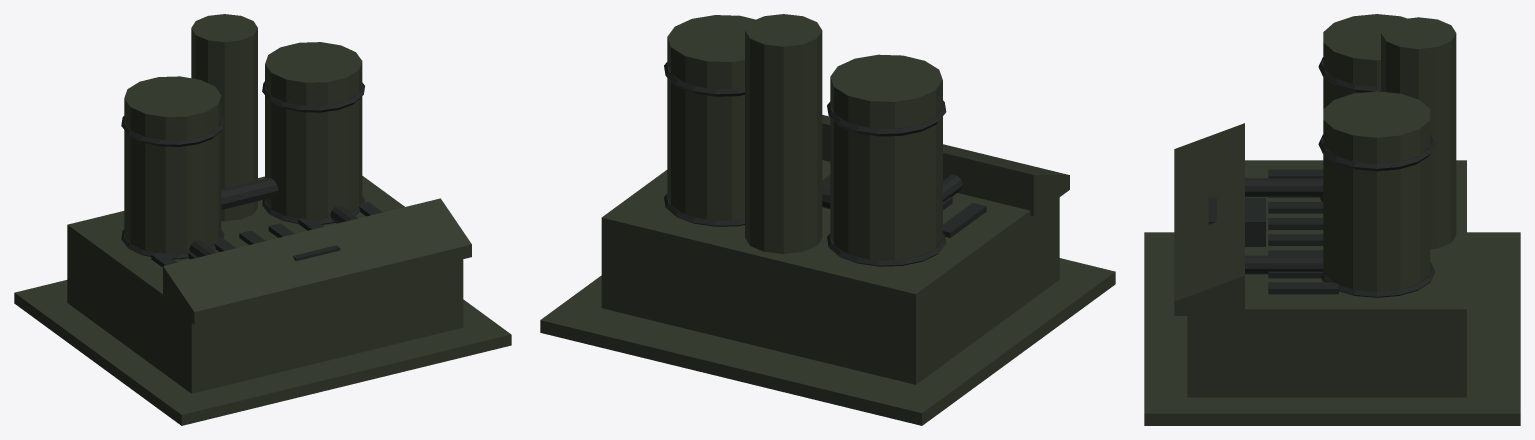
Rendered from Bastion_LargePowerPlant_Articulated.glb.
3 renders of one model, left to right at view 1: azimuth 30°, elevation 25°; view 2: azimuth 150°, elevation 25°; view 3: azimuth 270°, elevation 25°, orthographic. The views are drawn at different scales.
Visible parts, largest first — view 1: Base; view 2: Base; view 3: Base.
Boxes of the visible parts, bbox=[...] form: Base: bbox=[14, 14, 511, 425]; Base: bbox=[540, 14, 1115, 425]; Base: bbox=[1144, 14, 1520, 425].
Bounding box in the file's own units: 8.2 × 6.38 × 7.2.
1 material, 1 textured.
